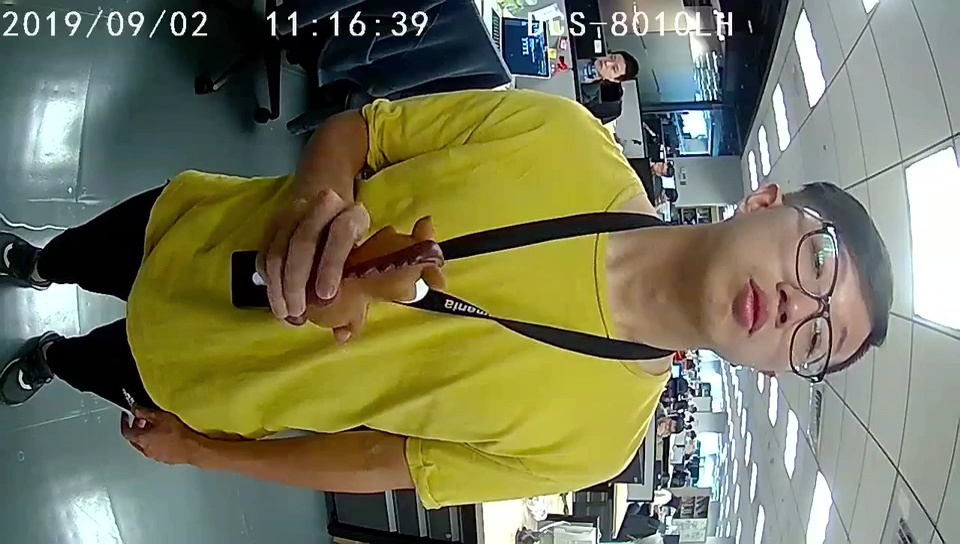horse: (351, 214, 446, 334)
